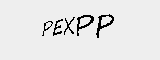Е: (53, 17, 63, 39)
Р: (74, 10, 93, 37), (97, 10, 115, 36), (37, 17, 52, 40)
Х: (61, 15, 76, 39)
